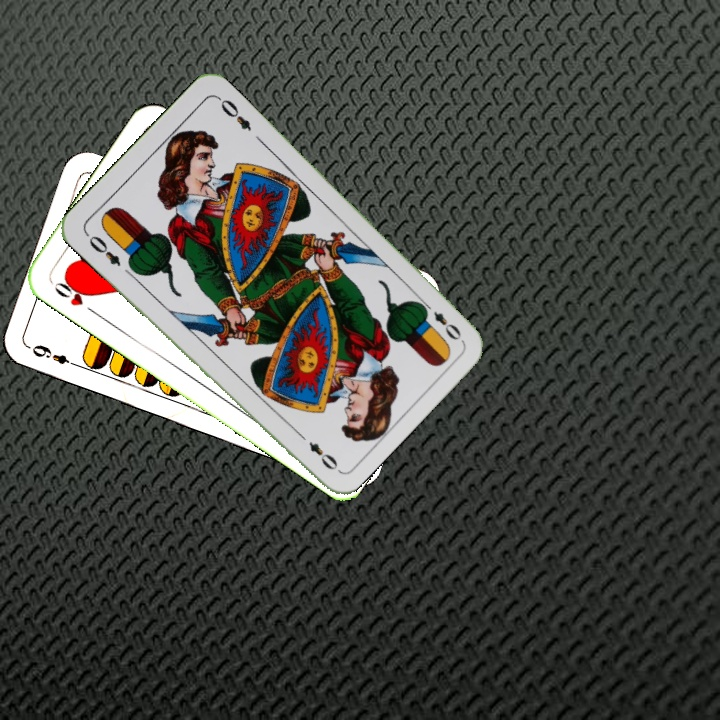E9: (28, 340, 82, 370)
EO: (417, 297, 465, 343), (85, 231, 124, 269)
HO: (47, 273, 99, 317)
